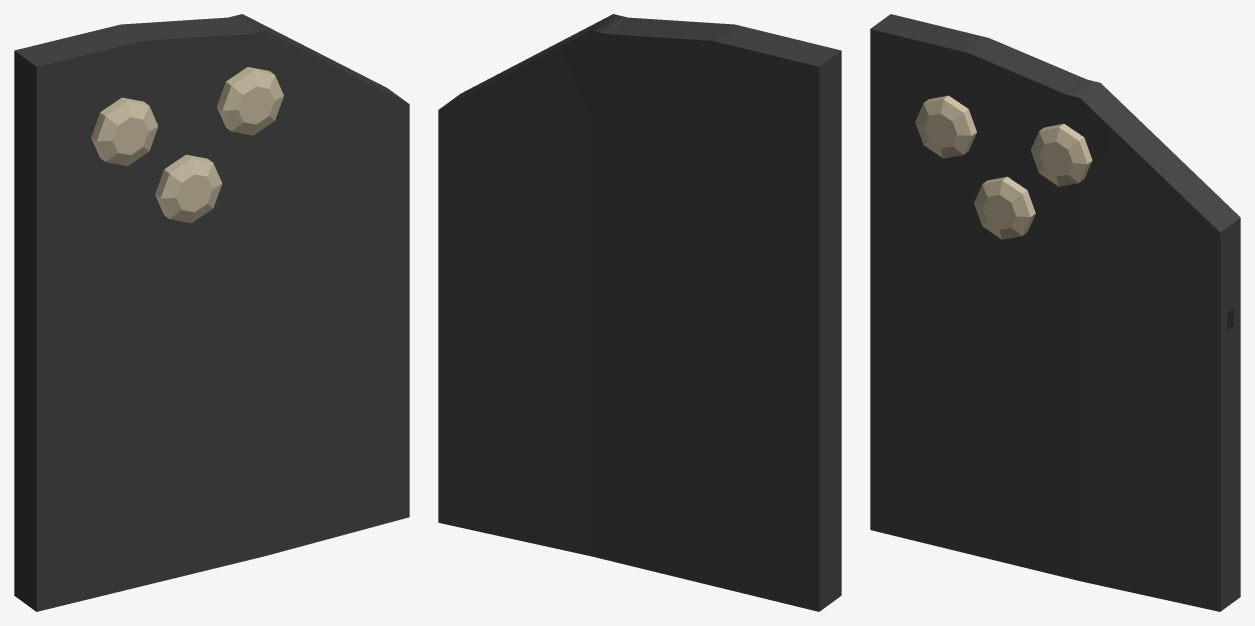
File: sm_wall_leftside_4_5m_04.fbx
3 views of the same model, side by side, from view 1: azimuth 30°, elevation 25°; view 2: azimuth 150°, elevation 25°; view 3: azimuth 330°, elevation 25° (orthographic). The views are drawn at different scales.
Parts seen in each view (by area): view 1: wall_leftside_4_5m_04; view 2: wall_leftside_4_5m_04; view 3: wall_leftside_4_5m_04.
Part boxes in pixels (box(x1,y1,x2,y2)): wall_leftside_4_5m_04: box(14, 14, 409, 611); wall_leftside_4_5m_04: box(438, 14, 841, 611); wall_leftside_4_5m_04: box(870, 14, 1240, 611).
Bounding box in the file's own units: 466 × 643 × 74.69.
